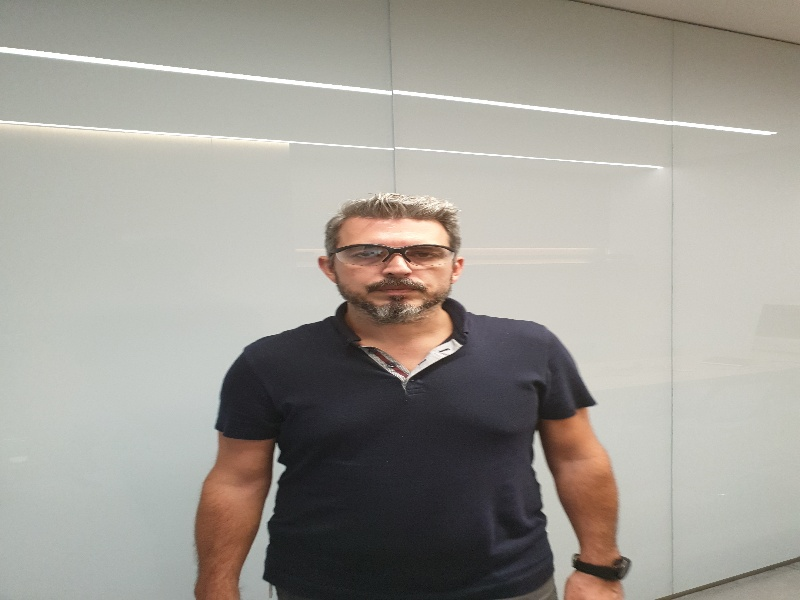Gozluk: (329, 243, 455, 270)
